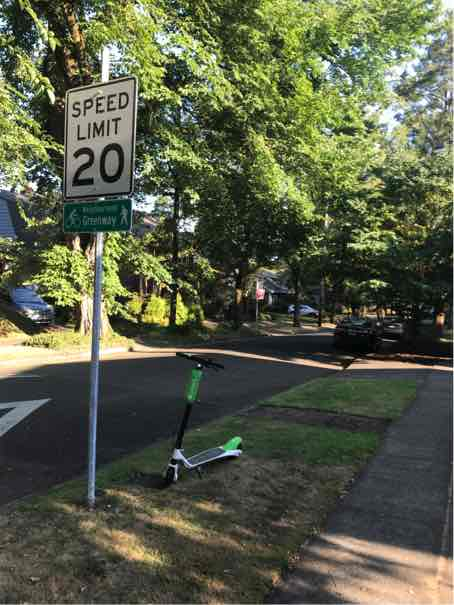scooter: (146, 341, 251, 492)
